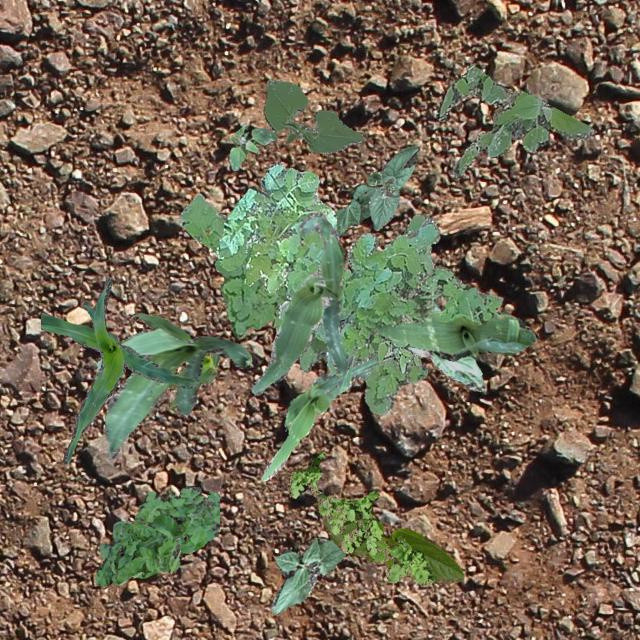crop: (39, 276, 200, 464), (96, 328, 250, 458), (250, 210, 346, 394), (260, 352, 392, 480), (321, 514, 463, 582), (380, 302, 484, 390), (131, 312, 219, 408), (378, 310, 538, 360), (262, 78, 362, 152), (270, 536, 344, 612), (366, 146, 418, 230), (334, 183, 380, 234)
weed: (215, 160, 500, 374), (178, 192, 432, 414), (286, 450, 434, 584), (434, 62, 594, 176), (94, 520, 186, 586), (134, 486, 218, 552), (228, 124, 278, 170), (378, 339, 420, 372)
